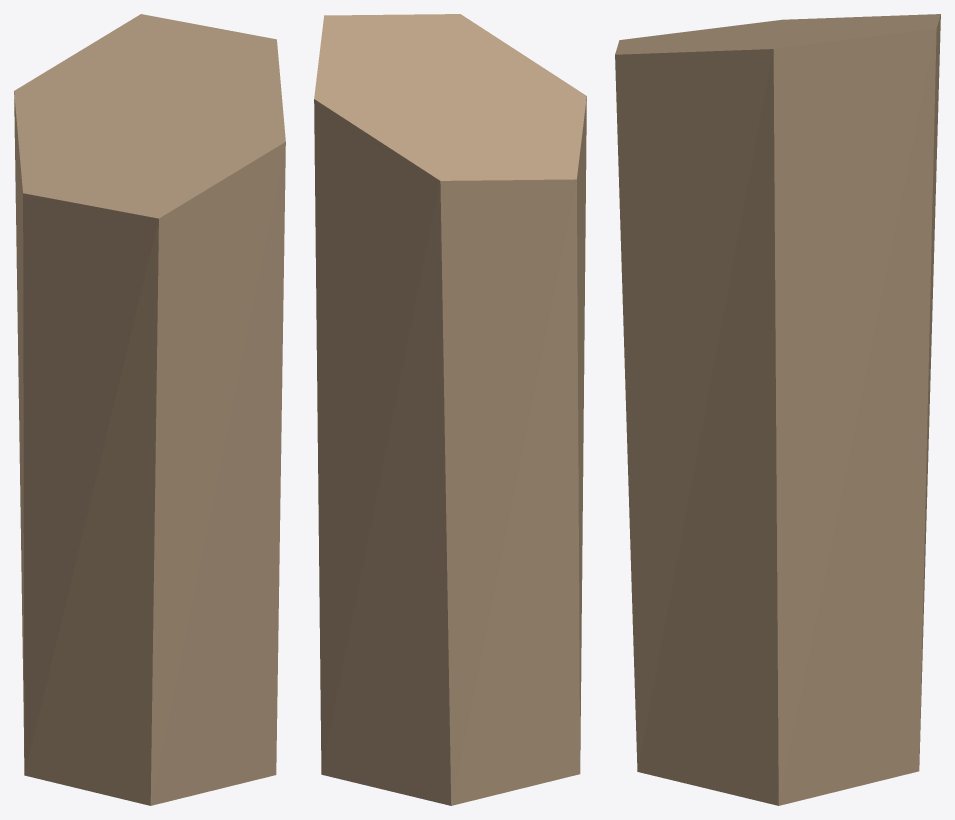
The model's file is fence_piece.FBX.
3 views of the same model, side by side, from view 1: azimuth 30°, elevation 25°; view 2: azimuth 150°, elevation 25°; view 3: azimuth 270°, elevation 25° (orthographic). The views are drawn at different scales.
Visible parts, largest first — view 1: fence_piece; view 2: fence_piece; view 3: fence_piece.
Boxes of the visible parts, x1,y1,x2,y2 form: fence_piece: (14,14,285,805); fence_piece: (314,14,586,805); fence_piece: (615,14,940,805).
Size of the model in its own units: 46.9 by 120 by 46.97.
